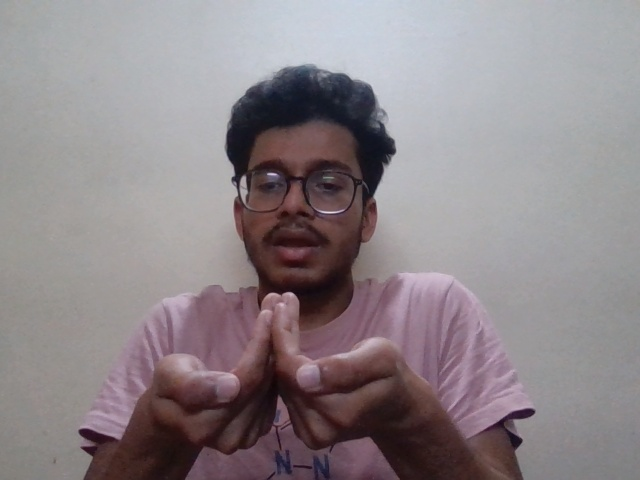tomorrow: (129, 286, 415, 459)
